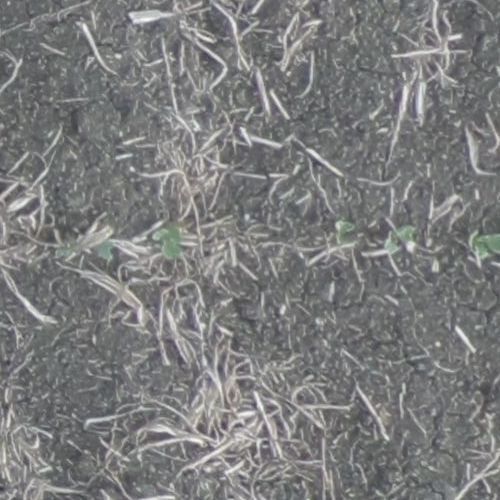isolated: (153, 221, 187, 257), (326, 221, 354, 256), (384, 227, 420, 253), (472, 235, 499, 260)
